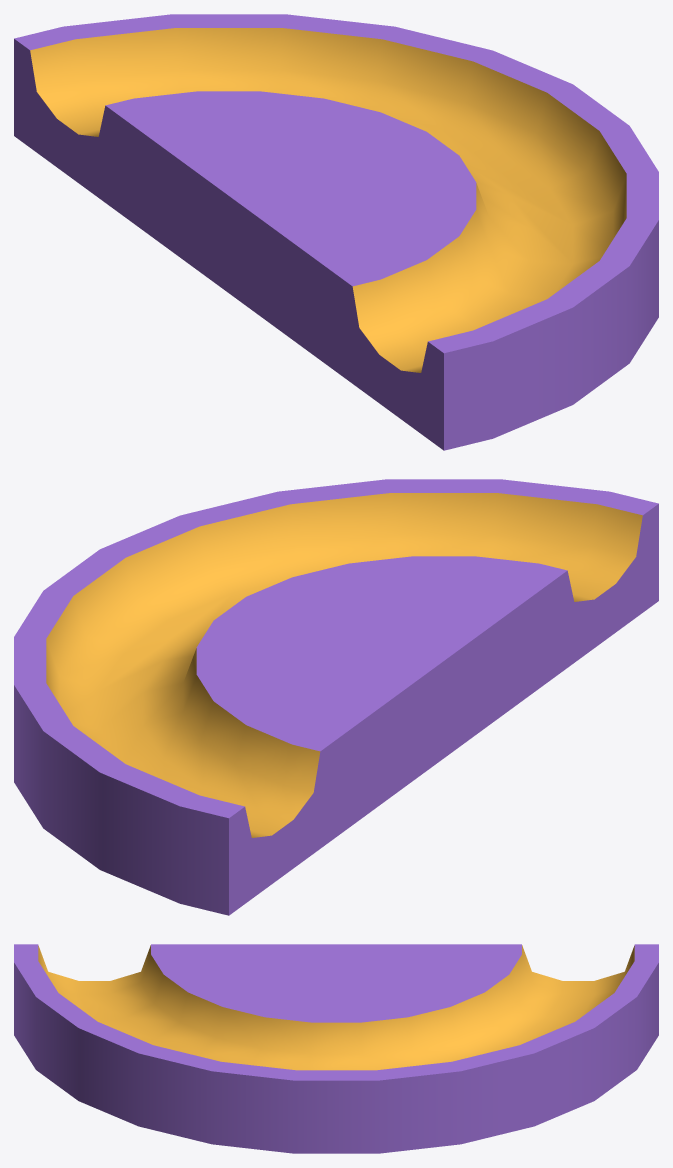
Rendered from bend-solid-medium.glb.
The picture shows the model from 3 angles, top to bottom: view 1: azimuth 30°, elevation 25°; view 2: azimuth 150°, elevation 25°; view 3: azimuth 270°, elevation 25°; orthographic projection. The views are drawn at different scales.
Parts seen in each view (by area): view 1: bend-solid-medium; view 2: bend-solid-medium; view 3: bend-solid-medium.
Boxes of the visible parts, x1,y1,x2,y2 form: bend-solid-medium: (14, 14, 658, 450); bend-solid-medium: (14, 479, 658, 915); bend-solid-medium: (14, 944, 658, 1153).
Bounding box in the file's own units: 2 × 0.5 × 4.
1 material, 1 textured.
